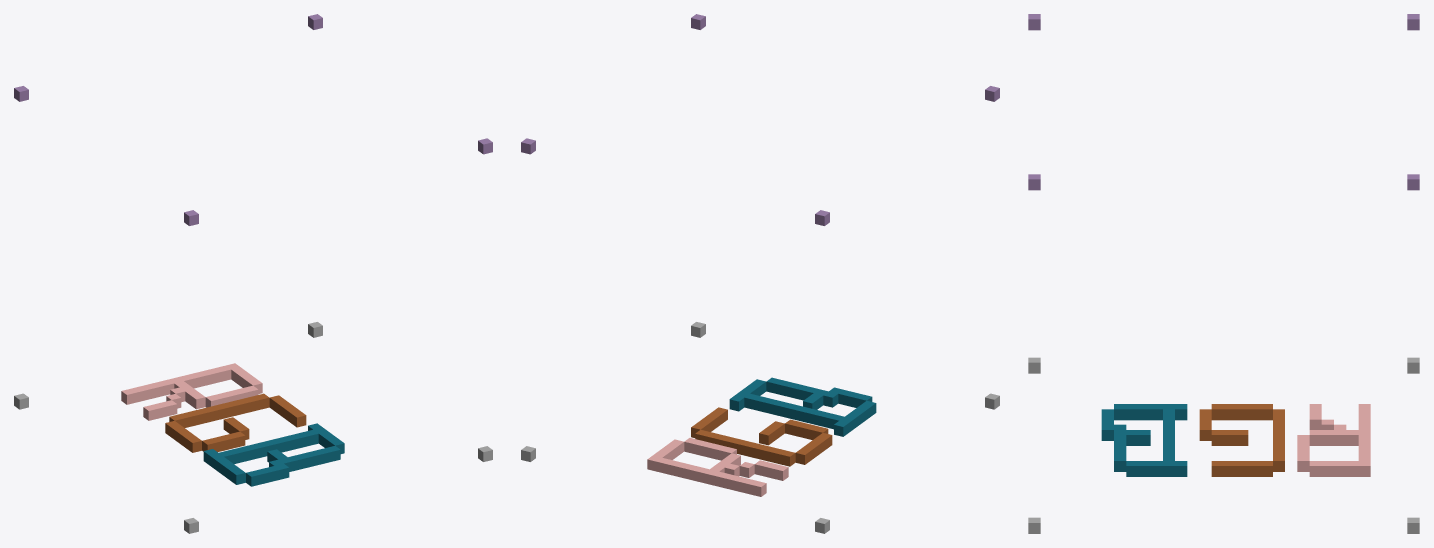
The model's file is rgb.gltf.
The picture shows the model from 3 angles, left to right: view 1: azimuth 30°, elevation 25°; view 2: azimuth 150°, elevation 25°; view 3: azimuth 270°, elevation 25°; orthographic projection. The views are drawn at different scales.
Parts seen in each view (by area): view 1: data/tests/rgb.cub; view 2: data/tests/rgb.cub; view 3: data/tests/rgb.cub.
Part boxes in pixels (x1=…): data/tests/rgb.cub: x1=14, y1=14, x2=492, y2=533; data/tests/rgb.cub: x1=521, y1=14, x2=999, y2=533; data/tests/rgb.cub: x1=1028, y1=14, x2=1419, y2=533.
Size of the model in its own units: 32 by 32 by 32.
Materials: 1 (1 with a texture image).
